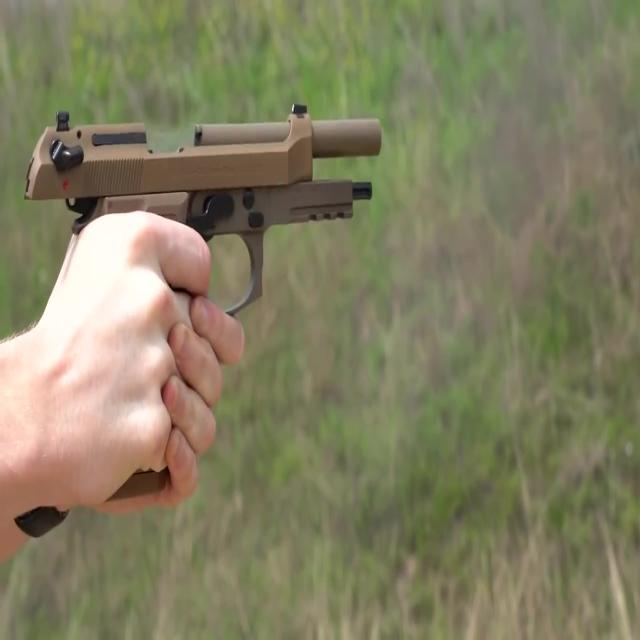Weapon: (10, 98, 442, 526)
